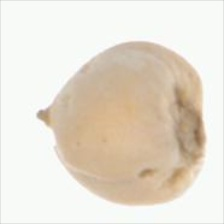L3: (35, 97, 57, 148)
L4: (36, 41, 206, 205)
